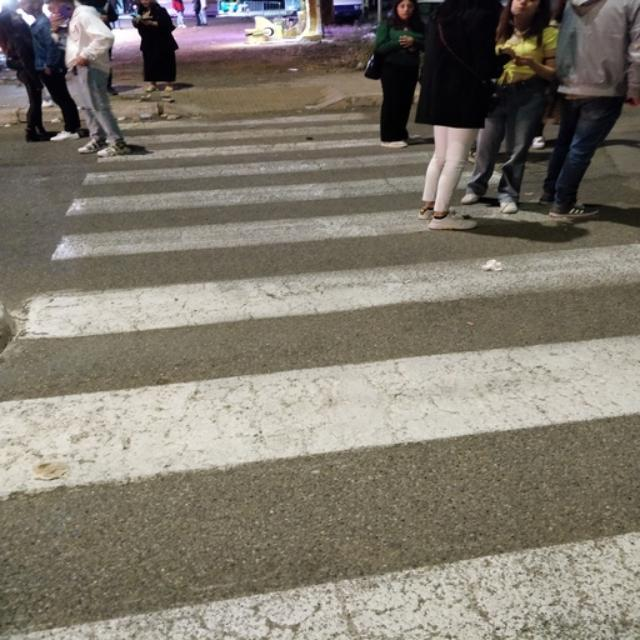sidewalk: (0, 99, 640, 640)
